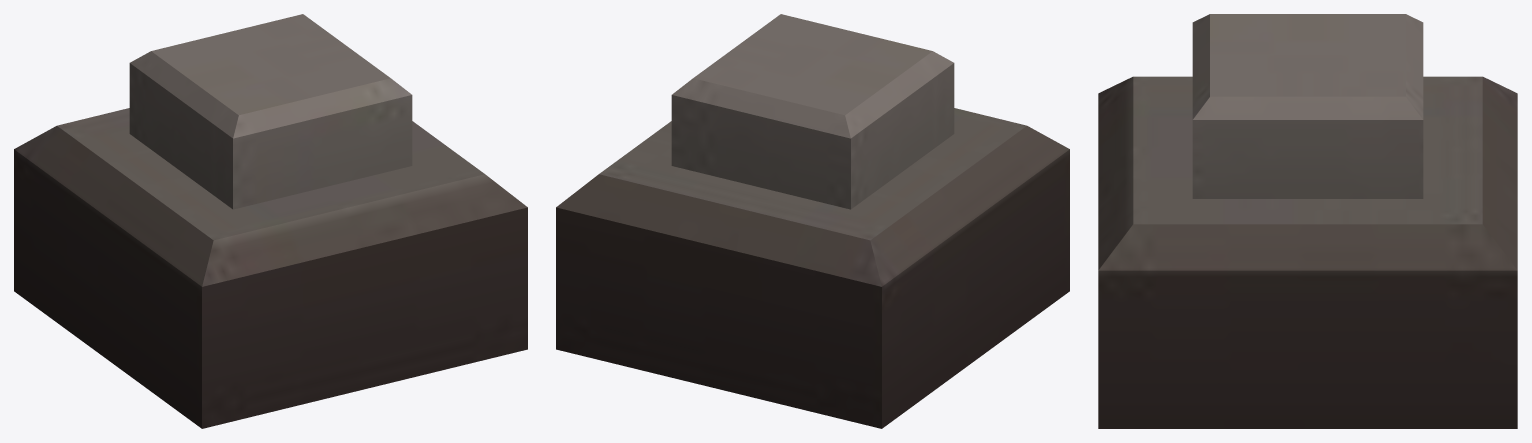
Rendered from beacon.glb.
3 renders of one model, left to right at view 1: azimuth 30°, elevation 25°; view 2: azimuth 150°, elevation 25°; view 3: azimuth 270°, elevation 25°, orthographic. The views are drawn at different scales.
Visible parts, largest first — view 1: beacon; view 2: beacon; view 3: beacon.
Part boxes in pixels (bbox=[...]): beacon: bbox=[14, 14, 527, 428]; beacon: bbox=[556, 14, 1069, 428]; beacon: bbox=[1098, 14, 1517, 428].
Bounding box in the file's own units: 0.24 × 0.18 × 0.24.
1 material, 1 textured.
